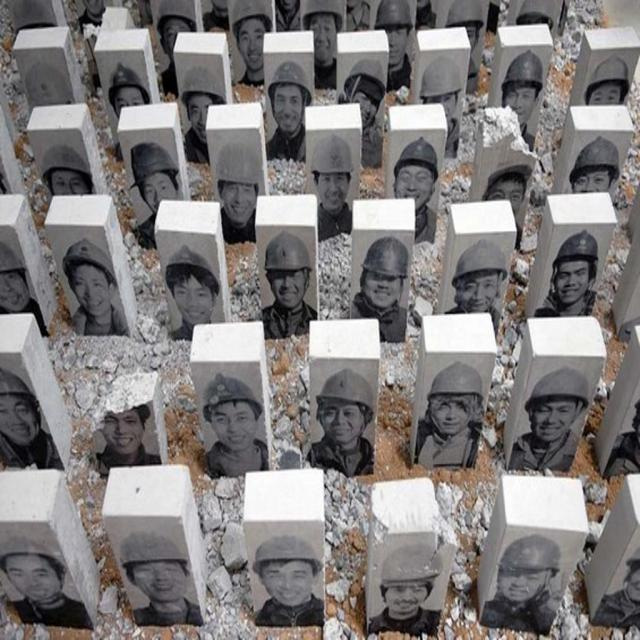nomask: (1, 552, 61, 599), (262, 562, 314, 604), (210, 401, 254, 450), (133, 561, 185, 602), (101, 405, 142, 454), (0, 393, 39, 444), (319, 397, 362, 443), (71, 264, 109, 315), (174, 274, 212, 324), (533, 398, 576, 440), (501, 565, 547, 601), (432, 393, 472, 434), (459, 270, 497, 313), (384, 581, 426, 619), (396, 164, 432, 208), (487, 178, 522, 220), (238, 19, 267, 69), (273, 85, 303, 133), (188, 94, 217, 143), (223, 180, 256, 223), (556, 260, 588, 304), (364, 268, 401, 306), (573, 166, 608, 206), (142, 171, 174, 213), (270, 271, 305, 307), (51, 169, 89, 202), (505, 84, 536, 124), (310, 14, 336, 61), (0, 270, 29, 310), (317, 171, 347, 209), (164, 19, 190, 62), (114, 86, 144, 123), (350, 88, 379, 126), (381, 24, 407, 64), (588, 83, 620, 114), (425, 93, 455, 123), (453, 22, 476, 60)
